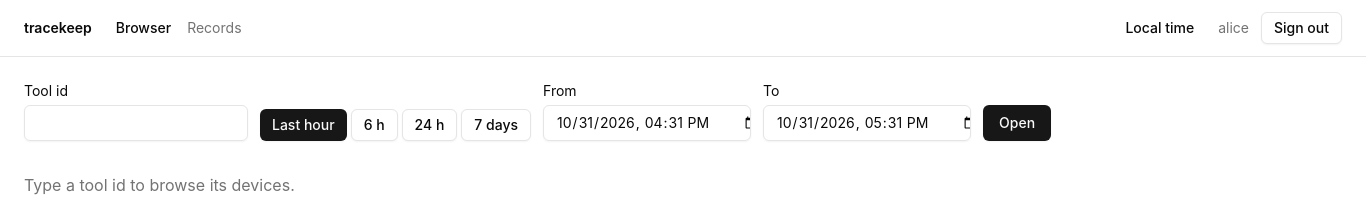
Test: the zone switch shows UTC and is remembered
What coordinates should you click on to do the following:
click the button with aria-label "Time zone"
I would click on:
 (1160, 28)
Its box is [1113,12,1206,44].
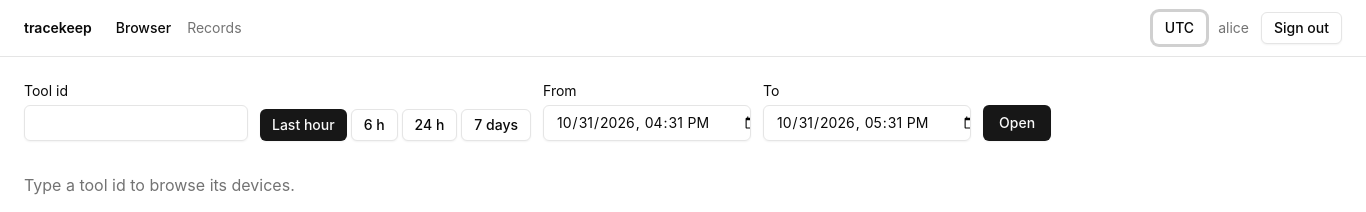
Now the button with aria-label "Time zone" reads "UTC", box [1153,12,1206,44]
